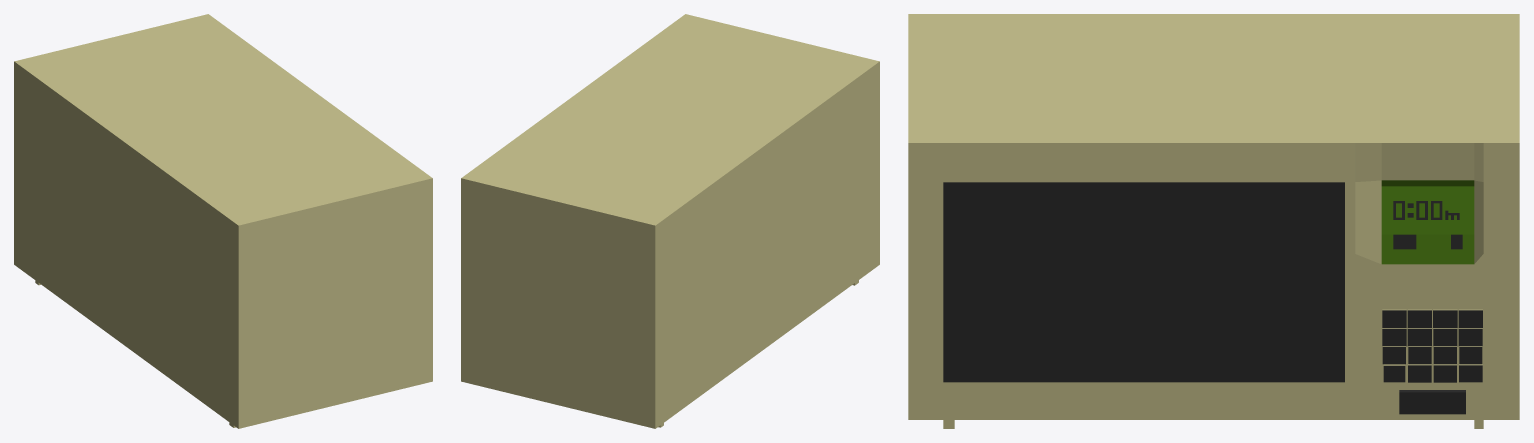
Rendered from microWave.fbx.
3 views of the same model, side by side, from view 1: azimuth 30°, elevation 25°; view 2: azimuth 150°, elevation 25°; view 3: azimuth 270°, elevation 25° (orthographic). The views are drawn at different scales.
Parts seen in each view (by area): view 1: Cube; view 2: Cube; view 3: Cube.
Part boxes in pixels (box(x1,y1,x2,y2)): Cube: box(14, 14, 432, 428); Cube: box(461, 14, 879, 428); Cube: box(908, 14, 1519, 428).
Size of the model in its own units: 204 by 210 by 400.
